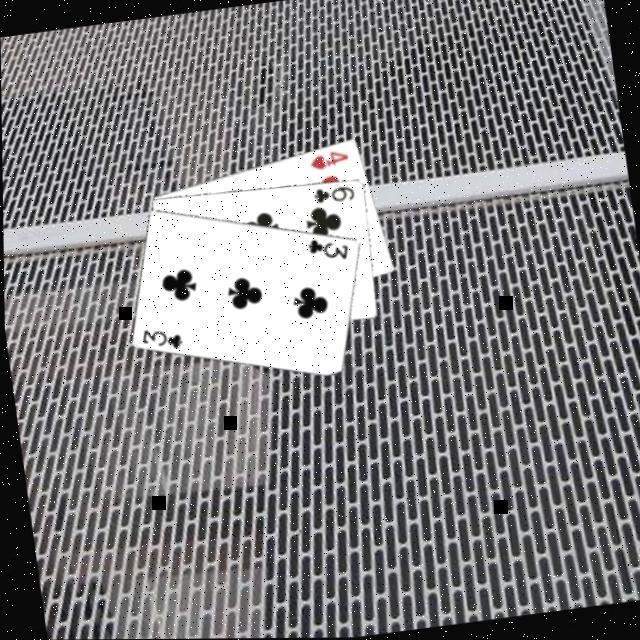3C: (304, 231, 352, 265), (137, 321, 185, 354)
4H: (306, 145, 352, 172)
6C: (310, 180, 358, 205)
